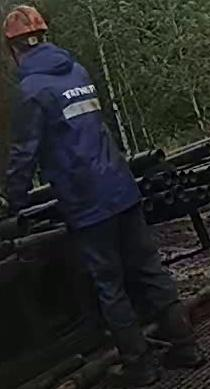helmet: (2, 4, 48, 39)
vest: (9, 41, 143, 230)
